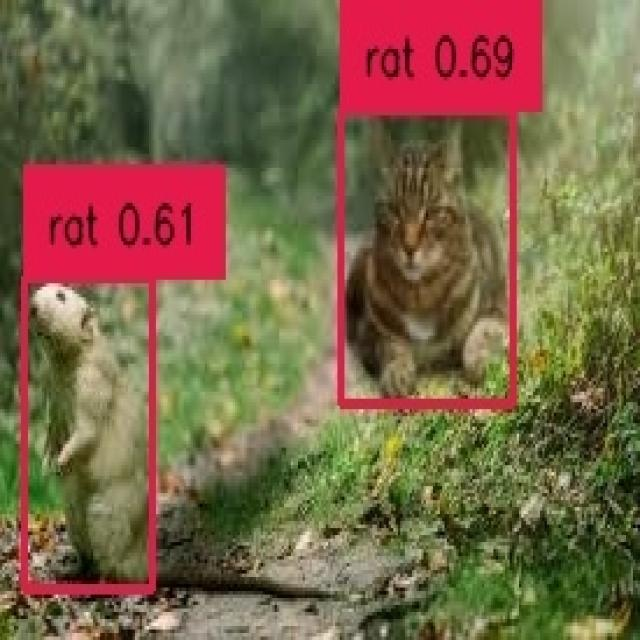rat: (338, 105, 510, 399), (21, 273, 149, 584)
